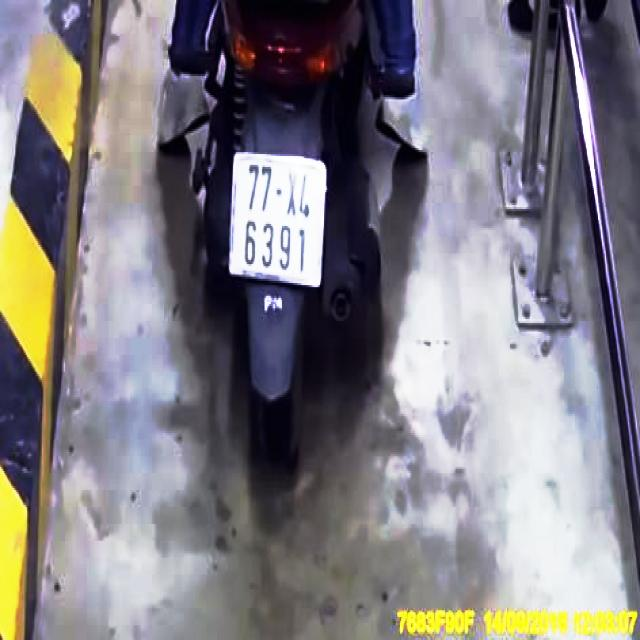license_plate: (229, 153, 331, 292)
